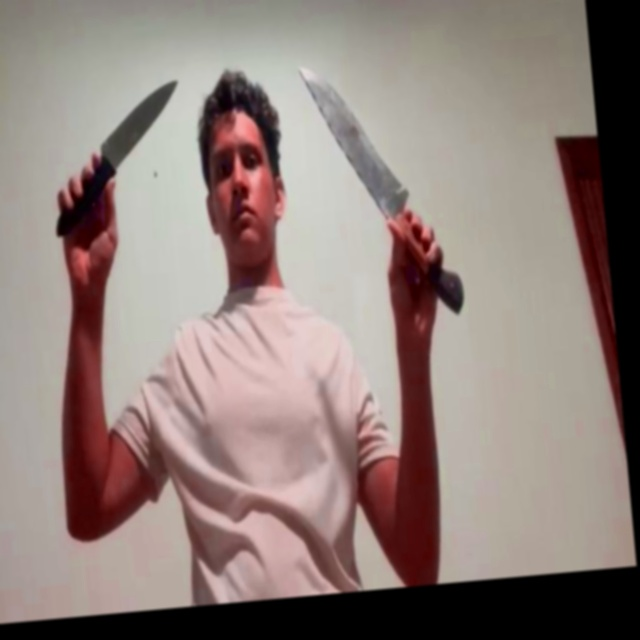Sharp-Object: (299, 55, 412, 218), (97, 78, 185, 173)
